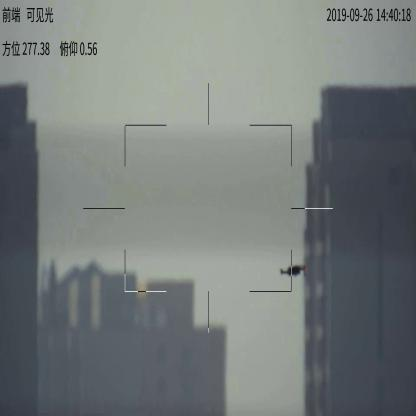uav: (277, 261, 308, 279)
